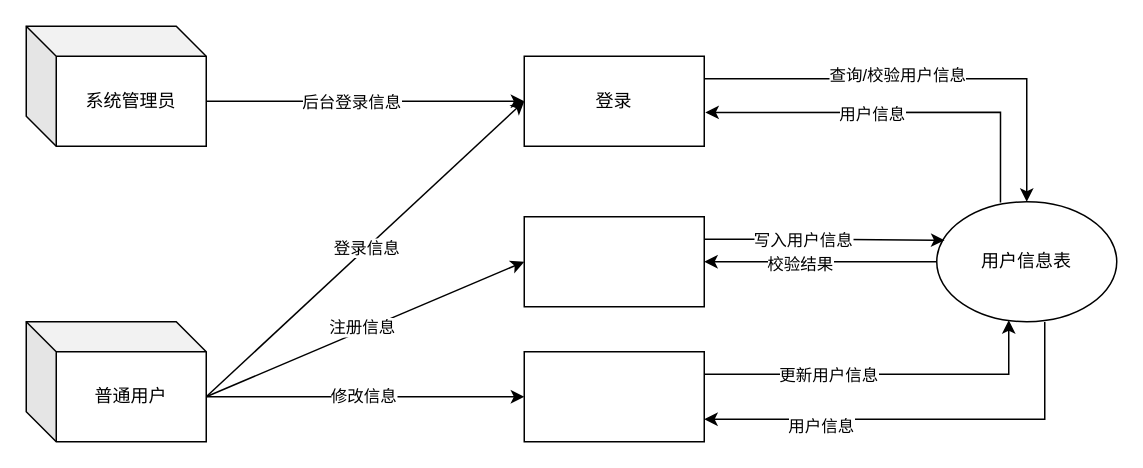
Some shapes in this 1143 by 468 pixel diagram are drawn without their labels. The centre of each missing label's shape, as x and y in pixels:
"修改个人信息" goes at (613,396).
"注册" goes at (613,261).
